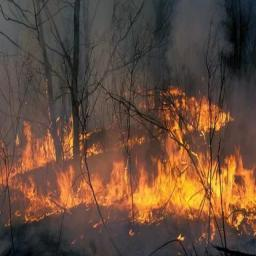Heavy smoke: (0, 0, 251, 173)
Large fire: (0, 88, 255, 240)
